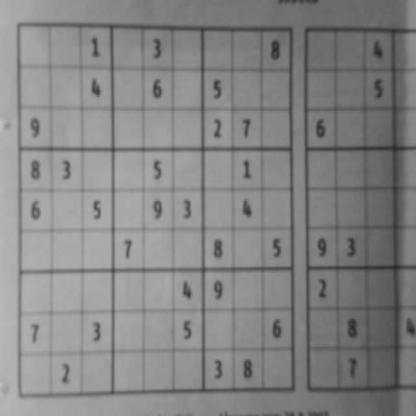sudoku: (15, 21, 298, 403)
